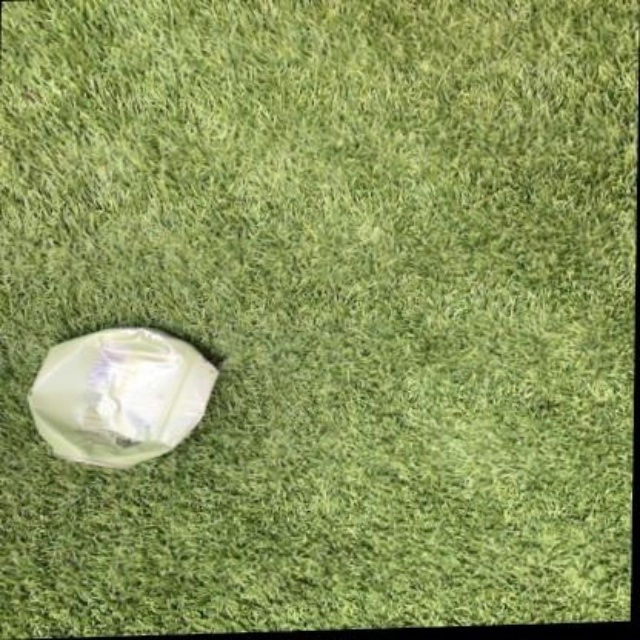trash: (29, 328, 217, 466)
